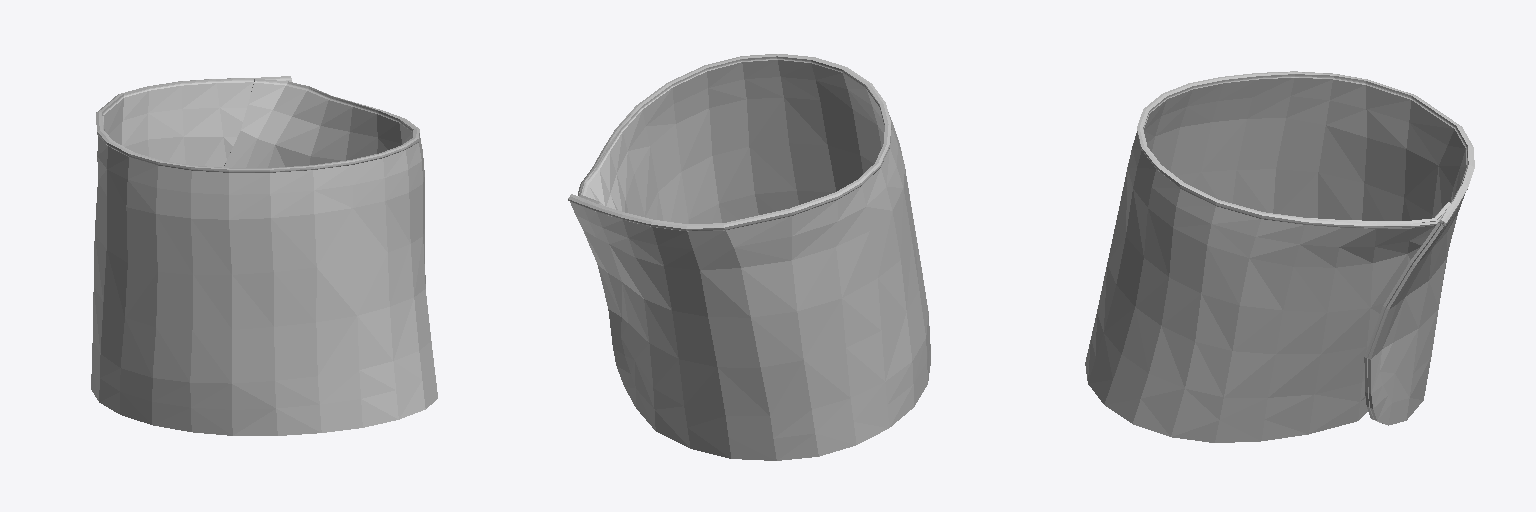
The picture shows the model from 3 angles: view 1: azimuth 30°, elevation 25°; view 2: azimuth 150°, elevation 25°; view 3: azimuth 270°, elevation 25°; orthographic projection.
Parts seen in each view (by area): view 1: cropped:ZBrushPolyMesh3D1 cropped:polySurface529 polySurface651 ; view 2: cropped:ZBrushPolyMesh3D1 cropped:polySurface529 polySurface651 ; view 3: cropped:ZBrushPolyMesh3D1 cropped:polySurface529 polySurface651 .
Boxes of the visible parts, x1=… form: cropped:ZBrushPolyMesh3D1 cropped:polySurface529 polySurface651 : x1=91, y1=76, x2=437, y2=435; cropped:ZBrushPolyMesh3D1 cropped:polySurface529 polySurface651 : x1=568, y1=54, x2=930, y2=460; cropped:ZBrushPolyMesh3D1 cropped:polySurface529 polySurface651 : x1=1085, y1=71, x2=1474, y2=442.
Bounding box in the file's own units: 6.75 × 6.48 × 8.08.